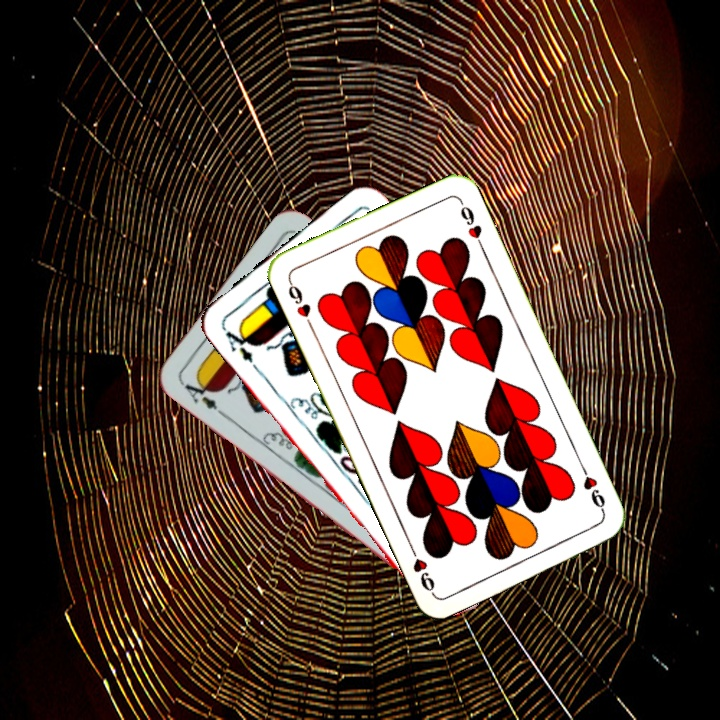EA: (218, 322, 261, 373), (177, 374, 220, 413)
H9: (576, 461, 608, 517), (284, 276, 315, 331)
